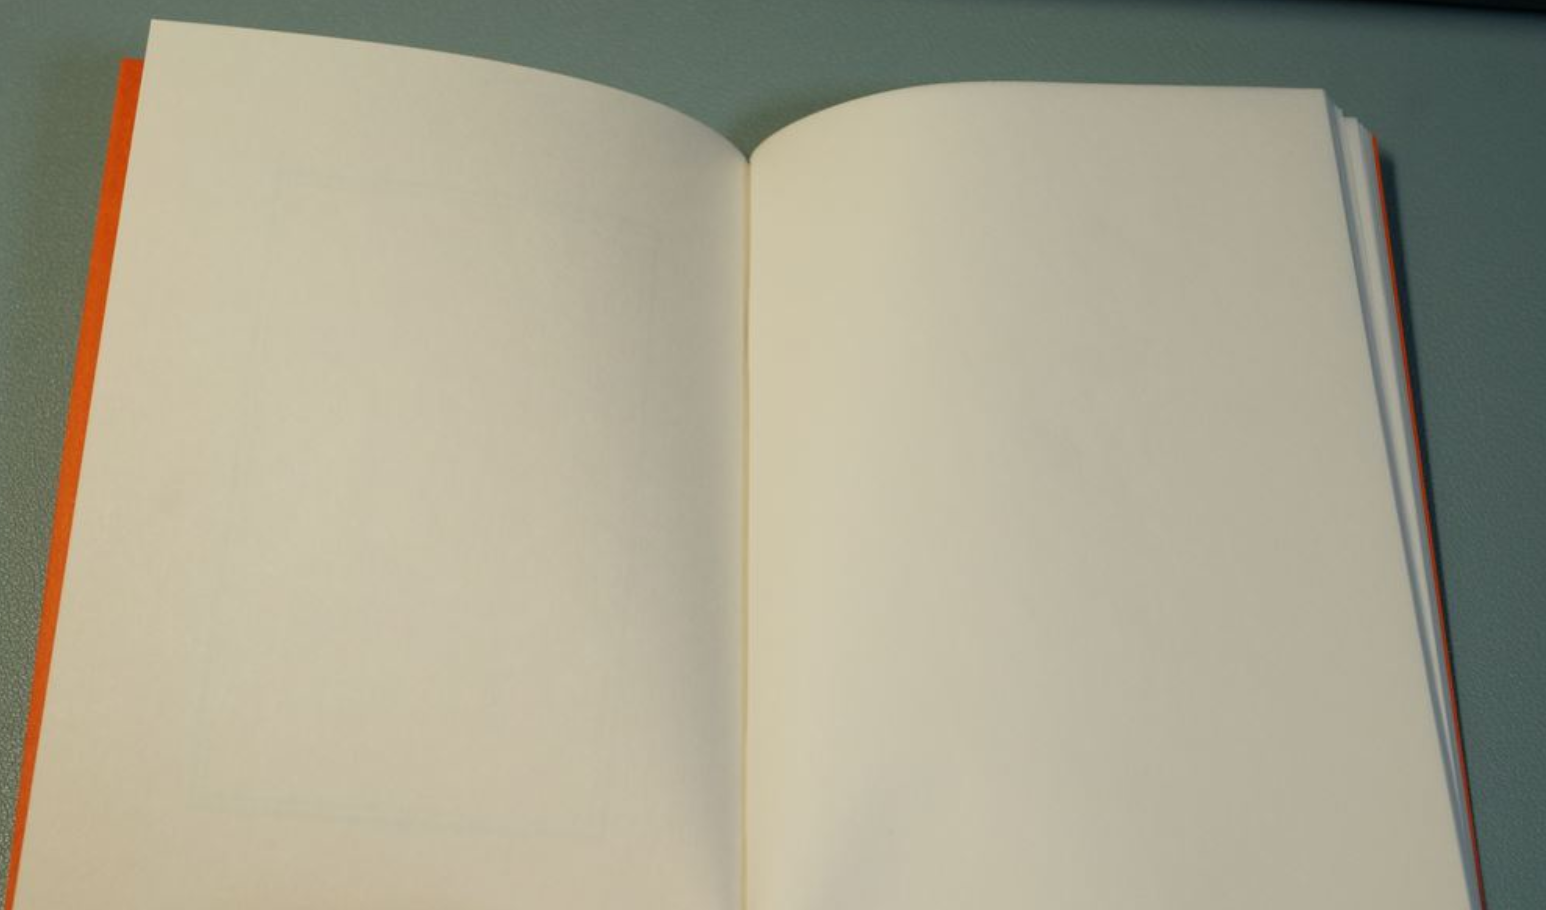book: (39, 15, 1474, 909)
